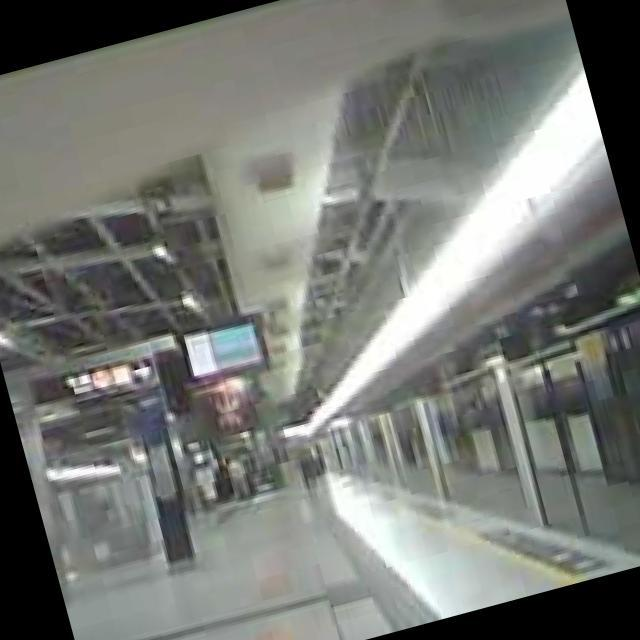person: (223, 452, 254, 503)
